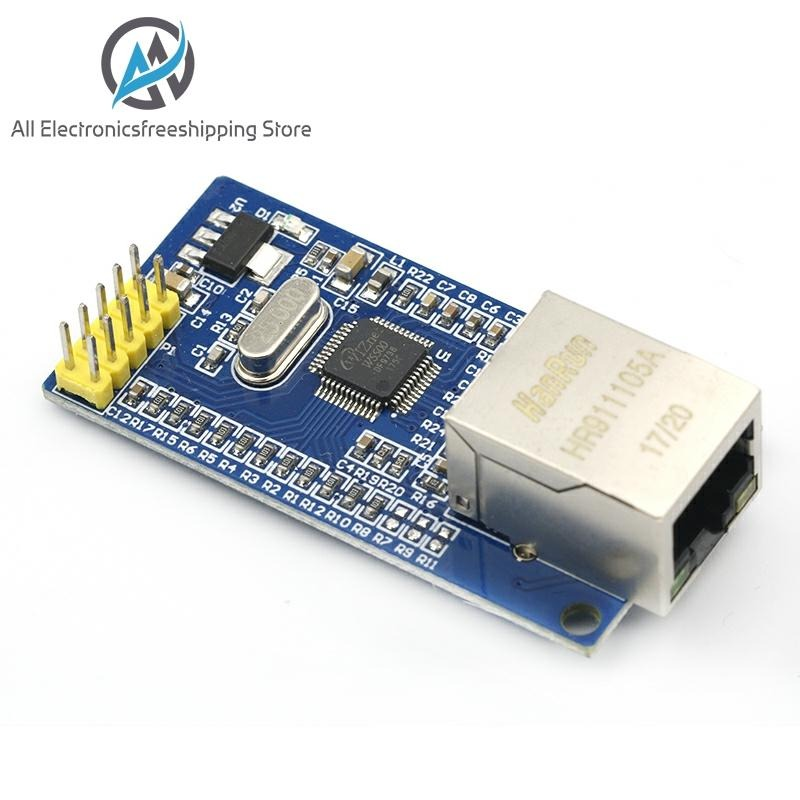Ethernet-W5500: (23, 161, 767, 692)
